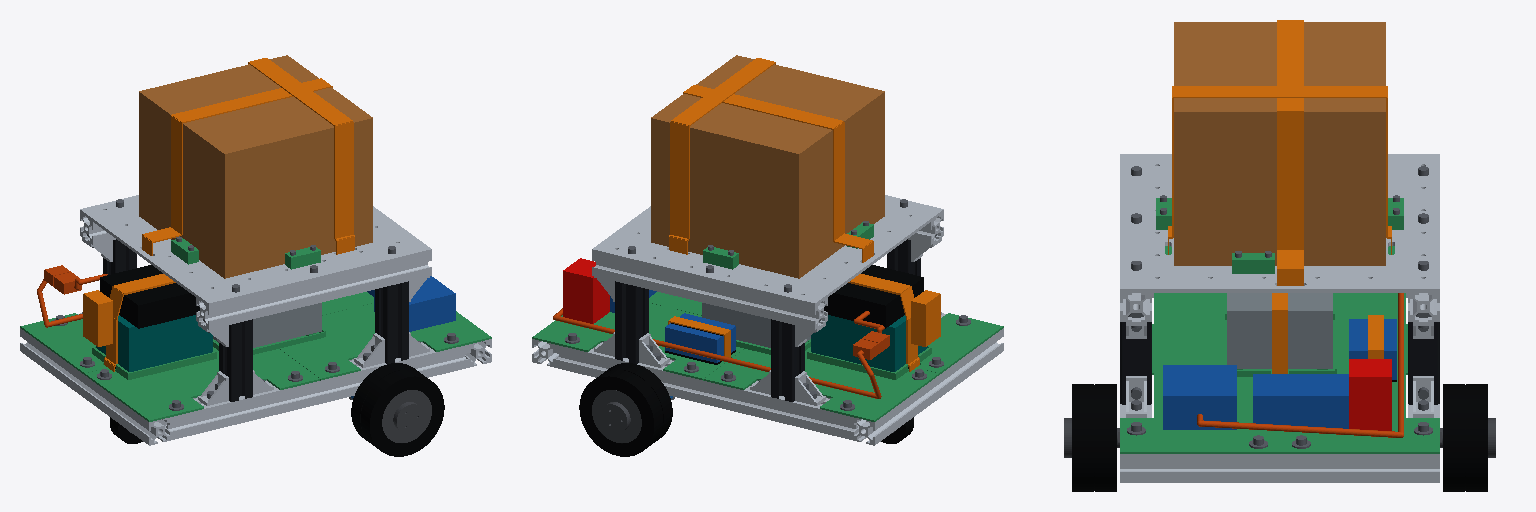
URDF robot description (amr_d64_payload_10kg):
<?xml version='1.0' encoding='utf-8'?>
<robot name="amr_d64_payload_10kg">
  <!--Generated from D6.4. SI units; +X forward, +Y left, +Z up. Inertias are estimates.-->
  <material name="aluminum">
    <color rgba="0.72 0.75 0.79 1" />
  </material>
  <material name="steel">
    <color rgba="0.38 0.4 0.43 1" />
  </material>
  <material name="pla">
    <color rgba="0.22 0.61 0.38 1" />
  </material>
  <material name="posts">
    <color rgba="0.12 0.13 0.15 1" />
  </material>
  <material name="mounts">
    <color rgba="0.15 0.43 0.69 1" />
  </material>
  <material name="motor">
    <color rgba="0.3 0.31 0.33 1" />
  </material>
  <material name="rubber">
    <color rgba="0.055 0.06 0.065 1" />
  </material>
  <material name="battery">
    <color rgba="0.02 0.4 0.4 1" />
  </material>
  <material name="computer">
    <color rgba="0.5 0.54 0.57 1" />
  </material>
  <material name="electronics">
    <color rgba="0.12 0.37 0.67 1" />
  </material>
  <material name="estop">
    <color rgba="0.85 0.08 0.06 1" />
  </material>
  <material name="belts">
    <color rgba="0.88 0.47 0.07 1" />
  </material>
  <material name="wires">
    <color rgba="0.76 0.3 0.08 1" />
  </material>
  <material name="payload">
    <color rgba="0.66 0.44 0.23 1" />
  </material>
  <link name="left_wheel_link">
    <inertial>
      <origin xyz="2.68715937167e-07 0.000842844210193 -1.43130870062e-06" rpy="0 0 0" />
      <mass value="0.45" />
      <inertia ixx="0.000337824360516" ixy="2.57511255333e-09" ixz="-2.83491628371e-11" iyy="0.000517319399072" iyz="-1.83797301139e-08" izz="0.000337817873043" />
    </inertial>
    <visual name="left_wheel_link_motor">
      <geometry>
        <mesh filename="meshes/left_wheel_link_motor.stl" scale="1 1 1" />
      </geometry>
      <material name="motor" />
    </visual>
    <visual name="left_wheel_link_rubber">
      <geometry>
        <mesh filename="meshes/left_wheel_link_rubber.stl" scale="1 1 1" />
      </geometry>
      <material name="rubber" />
    </visual>
    <collision name="left_wheel_link_rolling_contact">
      <origin xyz="0 0 0" rpy="1.57079632679 0 0" />
      <geometry>
        <cylinder radius="0.05035" length="0.043" />
      </geometry>
    </collision>
  </link>
  <link name="base_link">
    <inertial>
      <origin xyz="-0.0933615788726 -0.000826180823834 0.0822918376212" rpy="0 0 0" />
      <mass value="9.00487528613" />
      <inertia ixx="0.123522626533" ixy="0.0016813272398" ixz="0.00517378908755" iyy="0.175512061638" iyz="0.000139102367714" izz="0.2225830366" />
    </inertial>
    <visual name="base_link_motor">
      <geometry>
        <mesh filename="meshes/base_link_motor.stl" scale="1 1 1" />
      </geometry>
      <material name="motor" />
    </visual>
    <visual name="base_link_steel">
      <geometry>
        <mesh filename="meshes/base_link_steel.stl" scale="1 1 1" />
      </geometry>
      <material name="steel" />
    </visual>
    <visual name="base_link_aluminum">
      <geometry>
        <mesh filename="meshes/base_link_aluminum.stl" scale="1 1 1" />
      </geometry>
      <material name="aluminum" />
    </visual>
    <visual name="base_link_mounts">
      <geometry>
        <mesh filename="meshes/base_link_mounts.stl" scale="1 1 1" />
      </geometry>
      <material name="mounts" />
    </visual>
    <visual name="base_link_pla">
      <geometry>
        <mesh filename="meshes/base_link_pla.stl" scale="1 1 1" />
      </geometry>
      <material name="pla" />
    </visual>
    <visual name="base_link_posts">
      <geometry>
        <mesh filename="meshes/base_link_posts.stl" scale="1 1 1" />
      </geometry>
      <material name="posts" />
    </visual>
    <visual name="base_link_electronics">
      <geometry>
        <mesh filename="meshes/base_link_electronics.stl" scale="1 1 1" />
      </geometry>
      <material name="electronics" />
    </visual>
    <visual name="base_link_estop">
      <geometry>
        <mesh filename="meshes/base_link_estop.stl" scale="1 1 1" />
      </geometry>
      <material name="estop" />
    </visual>
    <visual name="base_link_computer">
      <geometry>
        <mesh filename="meshes/base_link_computer.stl" scale="1 1 1" />
      </geometry>
      <material name="computer" />
    </visual>
    <visual name="base_link_battery">
      <geometry>
        <mesh filename="meshes/base_link_battery.stl" scale="1 1 1" />
      </geometry>
      <material name="battery" />
    </visual>
    <visual name="base_link_rubber">
      <geometry>
        <mesh filename="meshes/base_link_rubber.stl" scale="1 1 1" />
      </geometry>
      <material name="rubber" />
    </visual>
    <visual name="base_link_belts">
      <geometry>
        <mesh filename="meshes/base_link_belts.stl" scale="1 1 1" />
      </geometry>
      <material name="belts" />
    </visual>
    <visual name="base_link_wires">
      <geometry>
        <mesh filename="meshes/base_link_wires.stl" scale="1 1 1" />
      </geometry>
      <material name="wires" />
    </visual>
    <visual name="base_link_belts_loaded">
      <geometry>
        <mesh filename="meshes/base_link_belts_loaded.stl" scale="1 1 1" />
      </geometry>
      <material name="belts" />
    </visual>
    <collision name="base_link_Rail400_1">
      <origin xyz="-0.09 -0.135 0.03365" rpy="0 0 0" />
      <geometry>
        <box size="0.4 0.03 0.03" />
      </geometry>
    </collision>
    <collision name="base_link_Rail400_2">
      <origin xyz="-0.09 -0.065 0.03365" rpy="0 0 0" />
      <geometry>
        <box size="0.4 0.03 0.03" />
      </geometry>
    </collision>
    <collision name="base_link_Rail400_3">
      <origin xyz="-0.09 0.065 0.03365" rpy="0 0 0" />
      <geometry>
        <box size="0.4 0.03 0.03" />
      </geometry>
    </collision>
    <collision name="base_link_Rail400_4">
      <origin xyz="-0.09 0.135 0.03365" rpy="0 0 0" />
      <geometry>
        <box size="0.4 0.03 0.03" />
      </geometry>
    </collision>
    <collision name="base_link_Cross300_1">
      <origin xyz="-0.305 0 0.03365" rpy="0 0 0" />
      <geometry>
        <box size="0.03 0.3 0.03" />
      </geometry>
    </collision>
    <collision name="base_link_Cross300_2">
      <origin xyz="0.125 0 0.03365" rpy="0 0 0" />
      <geometry>
        <box size="0.03 0.3 0.03" />
      </geometry>
    </collision>
    <collision name="base_link_CustomMotorMountL">
      <origin xyz="0 0.135 0.00165" rpy="0 0 0" />
      <geometry>
        <box size="0.09 0.03 0.034" />
      </geometry>
    </collision>
    <collision name="base_link_CustomMotorMountR">
      <origin xyz="0 -0.135 0.00165" rpy="0 0 0" />
      <geometry>
        <box size="0.09 0.03 0.034" />
      </geometry>
    </collision>
    <collision name="base_link_CasterAdapter">
      <origin xyz="-0.24 0 0.01665" rpy="0 0 0" />
      <geometry>
        <box size="0.08 0.17 0.004" />
      </geometry>
    </collision>
    <collision name="base_link_CasterTop">
      <origin xyz="-0.24 0 0.0134" rpy="0 0 0" />
      <geometry>
        <box size="0.059 0.047 0.0025" />
      </geometry>
    </collision>
    <collision name="base_link_Reserved_Protection">
      <origin xyz="0.08 -0.075 0.07915" rpy="0 0 0" />
      <geometry>
        <box size="0.07 0.07 0.035" />
      </geometry>
    </collision>
    <collision name="base_link_Reserved_ClampAndPower">
      <origin xyz="0.09 0.02 0.07915" rpy="0 0 0" />
      <geometry>
        <box size="0.05 0.09 0.035" />
      </geometry>
    </collision>
    <collision name="base_link_Reserved_EmergencyStop">
      <origin xyz="0.105 0.085 0.09165" rpy="0 0 0" />
      <geometry>
        <box size="0.04 0.04 0.06" />
      </geometry>
    </collision>
    <collision name="base_link_Reserved_SupervisorRS485">
      <origin xyz="-0.05 0.0875 0.06865" rpy="0 0 0" />
      <geometry>
        <box size="0.07 0.045 0.03" />
      </geometry>
    </collision>
    <collision name="base_link_Reserved_Computer">
      <origin xyz="-0.09 0 0.08765" rpy="0 0 0" />
      <geometry>
        <box size="0.12 0.1 0.06" />
      </geometry>
    </collision>
    <collision name="base_link_AluminumDeckD3">
      <origin xyz="-0.09 0 0.18065" rpy="0 0 0" />
      <geometry>
        <box size="0.3 0.3 0.004" />
      </geometry>
    </collision>
    <collision name="base_link_PrintedStopXN">
      <origin xyz="-0.1995 -0.025 0.19015" rpy="0 0 0" />
      <geometry>
        <box size="0.015 0.04 0.015" />
      </geometry>
    </collision>
    <collision name="base_link_PrintedStopXP">
      <origin xyz="0.0195 -0.025 0.19015" rpy="0 0 0" />
      <geometry>
        <box size="0.015 0.04 0.015" />
      </geometry>
    </collision>
    <collision name="base_link_PrintedStopYN">
      <origin xyz="-0.09 -0.1095 0.19015" rpy="0 0 0" />
      <geometry>
        <box size="0.04 0.015 0.015" />
      </geometry>
    </collision>
    <collision name="base_link_PrintedStopYP">
      <origin xyz="-0.09 0.1095 0.19015" rpy="0 0 0" />
      <geometry>
        <box size="0.04 0.015 0.015" />
      </geometry>
    </collision>
    <collision name="base_link_Upright3030_0">
      <origin xyz="-0.195 -0.135 0.09865" rpy="0 0 0" />
      <geometry>
        <box size="0.03 0.03 0.1" />
      </geometry>
    </collision>
    <collision name="base_link_Upright3030_1">
      <origin xyz="-0.195 0.135 0.09865" rpy="0 0 0" />
      <geometry>
        <box size="0.03 0.03 0.1" />
      </geometry>
    </collision>
    <collision name="base_link_Upright3030_2">
      <origin xyz="0.015 -0.135 0.09865" rpy="0 0 0" />
      <geometry>
        <box size="0.03 0.03 0.1" />
      </geometry>
    </collision>
    <collision name="base_link_Upright3030_3">
      <origin xyz="0.015 0.135 0.09865" rpy="0 0 0" />
      <geometry>
        <box size="0.03 0.03 0.1" />
      </geometry>
    </collision>
    <collision name="base_link_UpperRail3030_0">
      <origin xyz="-0.09 -0.135 0.16365" rpy="0 0 0" />
      <geometry>
        <box size="0.3 0.03 0.03" />
      </geometry>
    </collision>
    <collision name="base_link_UpperRail3030_1">
      <origin xyz="-0.09 0.135 0.16365" rpy="0 0 0" />
      <geometry>
        <box size="0.3 0.03 0.03" />
      </geometry>
    </collision>
    <collision name="base_link_seam_beam_0">
      <origin xyz="-0.09 0 0.0449" rpy="0 0 0" />
      <geometry>
        <box size="0.064 0.1 0.0025" />
      </geometry>
    </collision>
    <collision name="base_link_seam_beam_1">
      <origin xyz="-0.09 -0.02925 0.0474" rpy="0 0 0" />
      <geometry>
        <box size="0.064 0.0415 0.0025" />
      </geometry>
    </collision>
    <collision name="base_link_seam_beam_2">
      <origin xyz="-0.09 0.02925 0.0474" rpy="0 0 0" />
      <geometry>
        <box size="0.064 0.0415 0.0025" />
      </geometry>
    </collision>
    <collision name="base_link_seam_beam_3">
      <origin xyz="-0.1204 0 0.03615" rpy="0 0 0" />
      <geometry>
        <box size="0.0032 0.1 0.015" />
      </geometry>
    </collision>
    <collision name="base_link_seam_beam_4">
      <origin xyz="-0.0596 0 0.03615" rpy="0 0 0" />
      <geometry>
        <box size="0.0032 0.1 0.015" />
      </geometry>
    </collision>
    <collision name="base_link_seam_beam_5">
      <origin xyz="-0.09 -0.0484 0.03365" rpy="0 0 0" />
      <geometry>
        <box size="0.064 0.0032 0.02" />
      </geometry>
    </collision>
    <collision name="base_link_seam_beam_6">
      <origin xyz="-0.09 0.0484 0.03365" rpy="0 0 0" />
      <geometry>
        <box size="0.064 0.0032 0.02" />
      </geometry>
    </collision>
    <collision name="base_link_FloorPLA_0_0">
      <origin xyz="-0.2051 -0.0751 0.04985" rpy="0 0 0" />
      <geometry>
        <box size="0.2298 0.1498 0.0024" />
      </geometry>
    </collision>
    <collision name="base_link_FloorPLA_0_0_rib">
      <origin xyz="-0.206 -0.0235 0.04115" rpy="0 0 0" />
      <geometry>
        <box size="0.168 0.0174 0.015" />
      </geometry>
    </collision>
    <collision name="base_link_FloorPLA_0_1">
      <origin xyz="-0.2051 0.0751 0.04985" rpy="0 0 0" />
      <geometry>
        <box size="0.2298 0.1498 0.0024" />
      </geometry>
    </collision>
    <collision name="base_link_FloorPLA_0_1_rib">
      <origin xyz="-0.206 0.0235 0.04115" rpy="0 0 0" />
      <geometry>
        <box size="0.168 0.0174 0.015" />
      </geometry>
    </collision>
    <collision name="base_link_FloorPLA_1_0">
      <origin xyz="0.0251 -0.0751 0.04985" rpy="0 0 0" />
      <geometry>
        <box size="0.2298 0.1498 0.0024" />
      </geometry>
    </collision>
    <collision name="base_link_FloorPLA_1_0_rib">
      <origin xyz="0.026 -0.0235 0.04115" rpy="0 0 0" />
      <geometry>
        <box size="0.168 0.0174 0.015" />
      </geometry>
    </collision>
    <collision name="base_link_FloorPLA_1_1">
      <origin xyz="0.0251 0.0751 0.04985" rpy="0 0 0" />
      <geometry>
        <box size="0.2298 0.1498 0.0024" />
      </geometry>
    </collision>
    <collision name="base_link_FloorPLA_1_1_rib">
      <origin xyz="0.026 0.0235 0.04115" rpy="0 0 0" />
      <geometry>
        <box size="0.168 0.0174 0.015" />
      </geometry>
    </collision>
    <collision name="base_link_BatteryBL1860B">
      <origin xyz="-0.2265 0 0.08465" rpy="0 0 0" />
      <geometry>
        <box size="0.113 0.075 0.062" />
      </geometry>
    </collision>
    <collision name="base_link_BatteryAdapter03">
      <origin xyz="-0.2265 0 0.13065" rpy="0 0 0" />
      <geometry>
        <box size="0.095 0.09 0.03" />
      </geometry>
    </collision>
    <collision name="base_link_BatteryBuckleEnvelope">
      <origin xyz="-0.302 0 0.11715" rpy="0 0 0" />
      <geometry>
        <box size="0.02 0.035 0.055" />
      </geometry>
    </collision>
  </link>
  <link name="right_wheel_link">
    <inertial>
      <origin xyz="-2.68715937167e-07 -0.000842844210193 -1.43130870061e-06" rpy="0 0 0" />
      <mass value="0.45" />
      <inertia ixx="0.000337824360516" ixy="2.57511255324e-09" ixz="2.83491629754e-11" iyy="0.000517319399072" iyz="1.83797301136e-08" izz="0.000337817873043" />
    </inertial>
    <visual name="right_wheel_link_motor">
      <geometry>
        <mesh filename="meshes/right_wheel_link_motor.stl" scale="1 1 1" />
      </geometry>
      <material name="motor" />
    </visual>
    <visual name="right_wheel_link_rubber">
      <geometry>
        <mesh filename="meshes/right_wheel_link_rubber.stl" scale="1 1 1" />
      </geometry>
      <material name="rubber" />
    </visual>
    <collision name="right_wheel_link_rolling_contact">
      <origin xyz="0 0 0" rpy="1.57079632679 0 0" />
      <geometry>
        <cylinder radius="0.05035" length="0.043" />
      </geometry>
    </collision>
  </link>
  <link name="caster_swivel_link">
    <inertial>
      <origin xyz="-0.00208368833284 3.45547710101e-19 -0.0060383207606" rpy="0 0 0" />
      <mass value="0.0887160418696" />
      <inertia ixx="2.00832544816e-05" ixy="4.85850705141e-22" ixz="-4.29660604946e-06" iyy="1.90849352283e-05" iyz="-2.53397249247e-22" izz="1.76394659271e-05" />
    </inertial>
    <visual name="caster_swivel_link_steel">
      <geometry>
        <mesh filename="meshes/caster_swivel_link_steel.stl" scale="1 1 1" />
      </geometry>
      <material name="steel" />
    </visual>
    <collision name="caster_swivel_link_swivel_race">
      <origin xyz="0 0 0" rpy="0 0 0" />
      <geometry>
        <cylinder radius="0.019" length="0.009" />
      </geometry>
    </collision>
    <collision name="caster_swivel_link_fork_0">
      <origin xyz="-0.003 -0.0125 -0.01875" rpy="0 0 0" />
      <geometry>
        <box size="0.036 0.003 0.0285" />
      </geometry>
    </collision>
    <collision name="caster_swivel_link_fork_1">
      <origin xyz="-0.003 0.0125 -0.01875" rpy="0 0 0" />
      <geometry>
        <box size="0.036 0.003 0.0285" />
      </geometry>
    </collision>
    <collision name="caster_swivel_link_fork_2">
      <origin xyz="-0.016 0 -0.033" rpy="0 0 0" />
      <geometry>
        <box size="0.006 0.032 0.006" />
      </geometry>
    </collision>
  </link>
  <link name="caster_wheel_link">
    <inertial>
      <origin xyz="2.84217094304e-17 2.29472925463e-19 0" rpy="0 0 0" />
      <mass value="0.035507350075" />
      <inertia ixx="6.57068391835e-06" ixy="2.3584551378e-23" ixz="-1.75899594661e-20" iyy="1.0774211165e-05" iyz="-2.27653595497e-22" izz="6.57068391835e-06" />
    </inertial>
    <visual name="caster_wheel_link_rubber">
      <geometry>
        <mesh filename="meshes/caster_wheel_link_rubber.stl" scale="1 1 1" />
      </geometry>
      <material name="rubber" />
    </visual>
    <visual name="caster_wheel_link_steel">
      <geometry>
        <mesh filename="meshes/caster_wheel_link_steel.stl" scale="1 1 1" />
      </geometry>
      <material name="steel" />
    </visual>
    <collision name="caster_wheel_link_rolling_contact">
      <origin xyz="0 0 0" rpy="1.57079632679 0 0" />
      <geometry>
        <cylinder radius="0.025" length="0.02" />
      </geometry>
    </collision>
  </link>
  <link name="payload_link">
    <inertial>
      <origin xyz="-5.30457172566e-19 -7.01068832617e-19 5.68434188608e-17" rpy="0 0 0" />
      <mass value="10" />
      <inertia ixx="0.0546666666667" ixy="-5.62054261308e-20" ixz="1.6452128394e-18" iyy="0.0546666666667" iyz="1.71989237667e-18" izz="0.0666666666667" />
    </inertial>
    <visual name="example_cargo">
      <geometry>
        <box size="0.2 0.2 0.16" />
      </geometry>
      <material name="payload" />
    </visual>
    <collision name="payload_link_cargo_box">
      <origin xyz="0 0 0" rpy="0 0 0" />
      <geometry>
        <box size="0.2 0.2 0.16" />
      </geometry>
    </collision>
  </link>
  <joint name="left_wheel_joint" type="continuous">
    <parent link="base_link" />
    <child link="left_wheel_link" />
    <origin xyz="0 0.1745 0" rpy="0 0 0" />
    <axis xyz="0 1 0" />
    <limit effort="0.96" velocity="12.0427718388" />
    <dynamics damping="0" friction="0" />
  </joint>
  <joint name="right_wheel_joint" type="continuous">
    <parent link="base_link" />
    <child link="right_wheel_link" />
    <origin xyz="0 -0.1745 0" rpy="0 0 0" />
    <axis xyz="0 1 0" />
    <limit effort="0.96" velocity="12.0427718388" />
    <dynamics damping="0" friction="0" />
  </joint>
  <joint name="caster_swivel_joint" type="continuous">
    <parent link="base_link" />
    <child link="caster_swivel_link" />
    <origin xyz="-0.24 0 0.00765" rpy="0 0 0" />
    <axis xyz="0 0 1" />
    <limit effort="0" velocity="30" />
    <dynamics damping="0" friction="0" />
  </joint>
  <joint name="caster_wheel_joint" type="continuous">
    <parent link="caster_swivel_link" />
    <child link="caster_wheel_link" />
    <origin xyz="-0.016 0 -0.033" rpy="0 0 0" />
    <axis xyz="0 1 0" />
    <limit effort="0" velocity="30" />
    <dynamics damping="0" friction="0" />
  </joint>
  <joint name="payload_fixed_joint" type="fixed">
    <parent link="base_link" />
    <child link="payload_link" />
    <origin xyz="-0.09 0 0.26265" rpy="0 0 0" />
  </joint>
</robot>

--- Render facts (derived) ---
Views: 3 orthographic renders of the robot side by side, from view 1: azimuth 30°, elevation 25°; view 2: azimuth 150°, elevation 25°; view 3: azimuth 270°, elevation 25°.
Model amr_d64_payload_10kg with 6 links and 5 joints (4 continuous, 1 fixed), rooted at base_link, posed all joints at 0.
Links seen in each view (by area): view 1: base_link, payload_link, right_wheel_link; view 2: base_link, payload_link, left_wheel_link; view 3: base_link, payload_link, left_wheel_link, right_wheel_link.
Boxes of the visible links, x1,y1,x2,y2 form: base_link: (20, 58, 491, 445); payload_link: (139, 55, 372, 278); right_wheel_link: (351, 363, 444, 456); base_link: (532, 58, 1003, 445); payload_link: (651, 55, 884, 278); left_wheel_link: (579, 363, 672, 456); base_link: (1117, 20, 1442, 482); payload_link: (1174, 22, 1385, 265); left_wheel_link: (1443, 384, 1495, 491); right_wheel_link: (1064, 384, 1116, 491).
Size in the robot's own frame: 0.46 by 0.4066 by 0.396 metres.
21 mesh visuals loaded from 21 distinct referenced files (21 binary STL).
